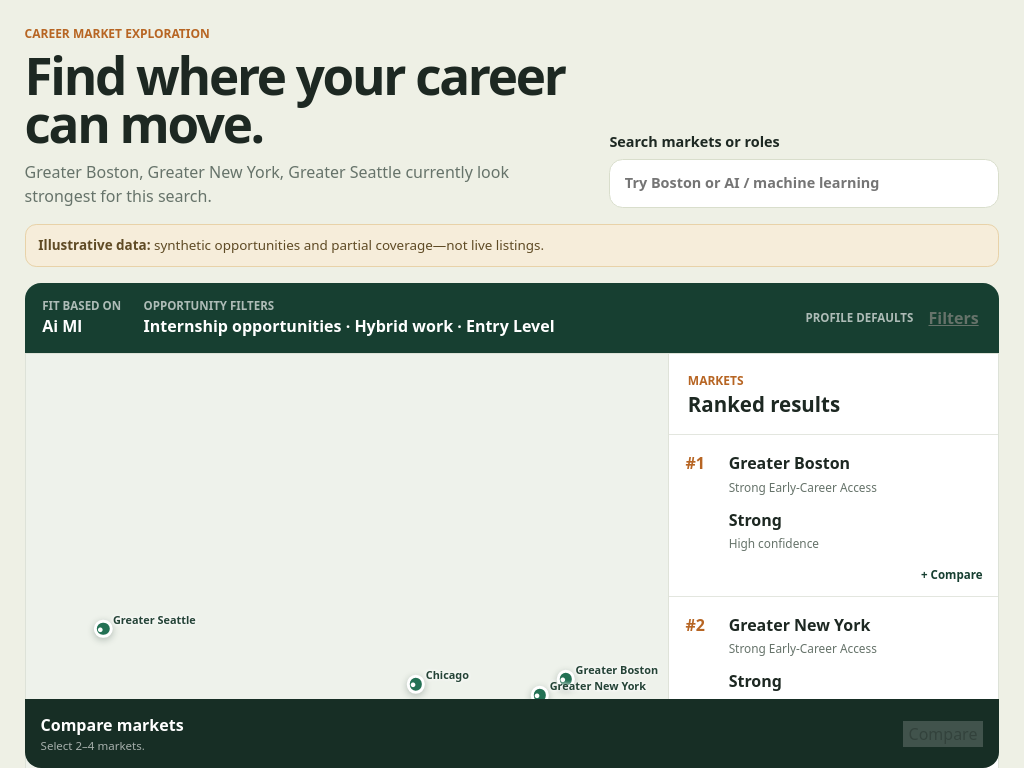
Test case: Layer 42A Explore experience › routes recognized role search into the role override instead of free-text filtering
The image size is (1024, 768).
Type "AI / machine learning" into the search field with placeholder "Try Boston or AI / machine learning" at (804, 183), box [609, 159, 999, 208]
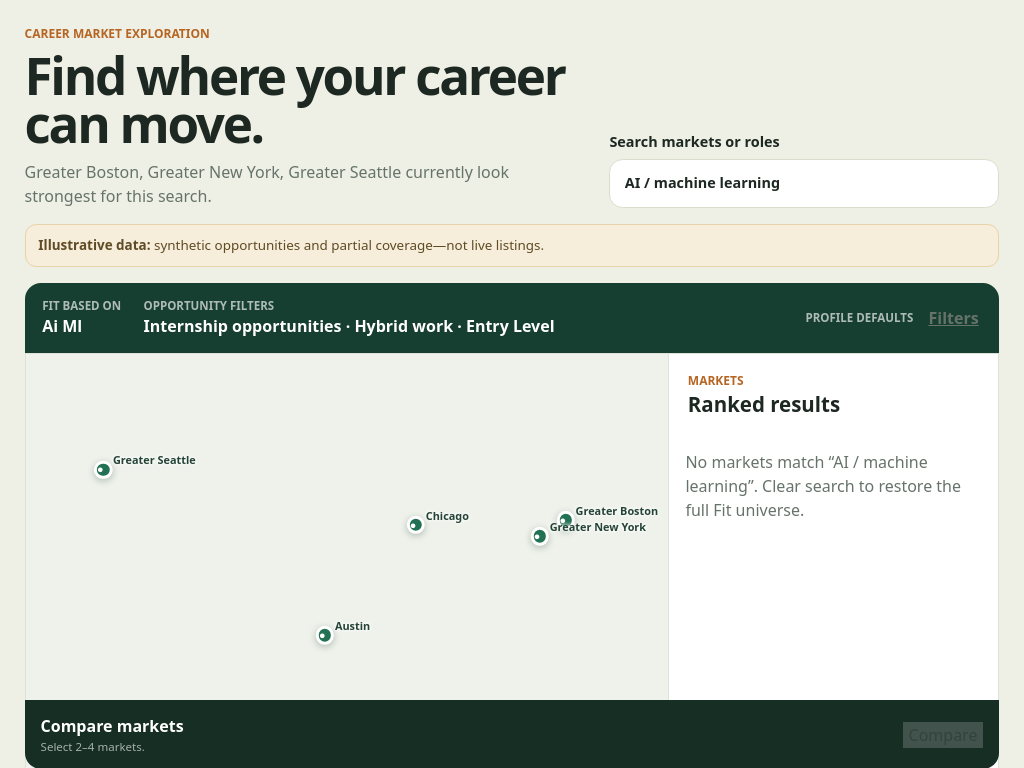
Press Enter in the search field with placeholder "Try Boston or AI / machine learning", box [609, 159, 999, 208]
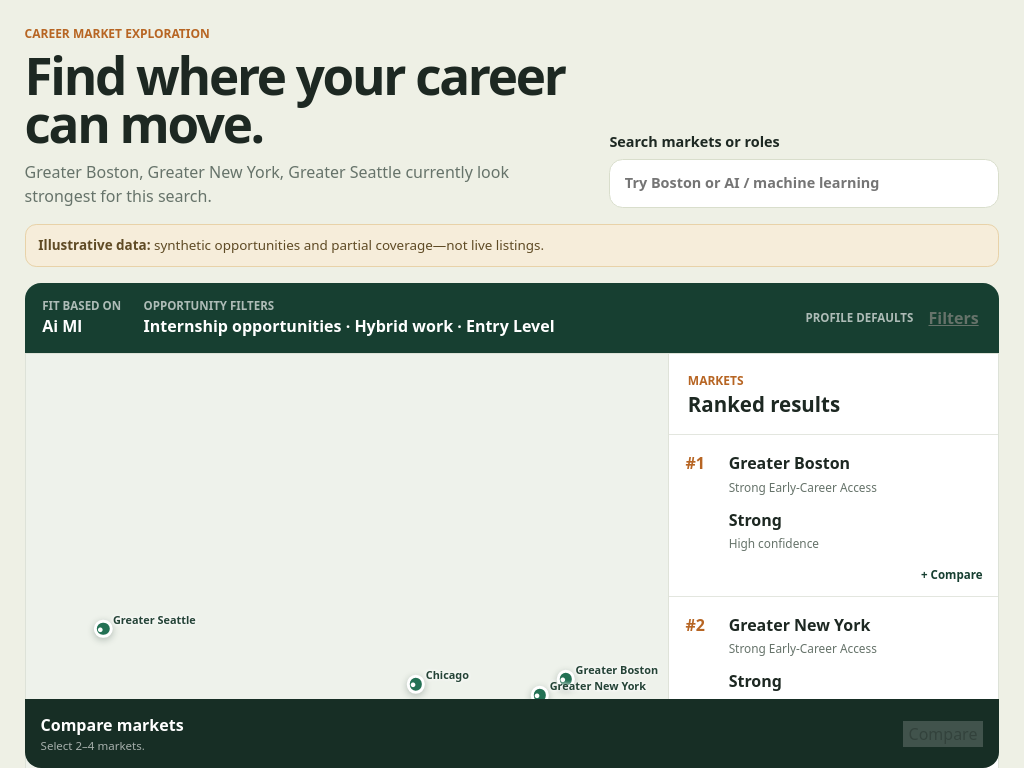
Now the search field with placeholder "Try Boston or AI / machine learning" is empty, box [609, 159, 999, 208]
Now the text "No markets match" is gone
